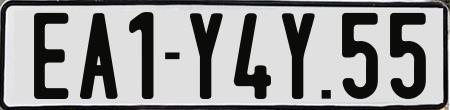1: (126, 10, 151, 101)
4: (231, 12, 273, 104)
5: (339, 11, 381, 103), (388, 11, 425, 98)
A: (77, 10, 116, 101)
E: (33, 10, 72, 97)
Y: (189, 13, 226, 99), (279, 10, 314, 97)
